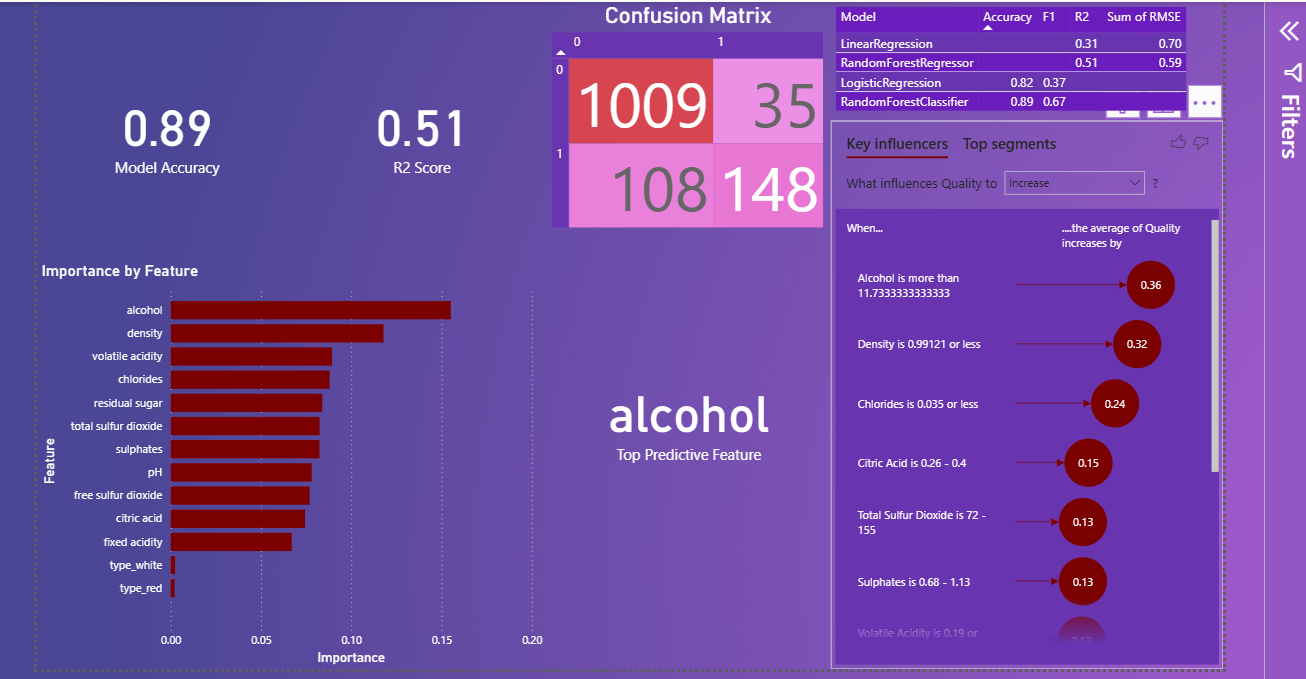

The page's visual inventory and layout, read from the dashboard file:
{"tool":"powerbi","page":{"name":"Predictive / ML","canvas":[1280,720],"ordinal":2},"visuals":[{"type":"card","fields":{"Values":["Sum(ModelKPI.Model Accuracy)"]},"box":[0,0,280.2,280.2],"z":0},{"type":"card","fields":{"Values":["Sum(ModelKPI.R2 Score)"]},"box":[280.2,0,270.6,280.2],"z":1000},{"type":"card","fields":{"Values":["Min(ModelKPI.Top Predictor Variable)"]},"box":[563.2,373.6,280.2,149.7],"z":2000},{"type":"barChart","fields":{"Category":["FeatureImportance.Column1"],"Y":["Sum(FeatureImportance.Column2)"]},"box":[0,280.2,550.8,439.6],"z":3000},{"type":"keyDriversVisual","fields":{"Target":["Wine.quality_label"],"ExplainBy":["Wine.alcohol","Wine.volatile acidity","Wine.sulphates","Wine.density","Wine.residual sugar","Wine.citric acid","Wine.chlorides","Sum(Wine.pH)","Wine.free sulfur dioxide","Wine.total sulfur dioxide","Wine.fixed acidity","Wine.type"]},"box":[855.8,127.8,424.5,592.1],"z":4000},{"type":"pivotTable","title":"Confusion Matrix","fields":{"Rows":["classification_predictions.actual"],"Columns":["classification_predictions.predicted"],"Values":["CountNonNull(classification_predictions.predicted)"]},"box":[550.8,0,305,280.2],"z":5000},{"type":"tableEx","fields":{"Values":["ModelComparison.Model","ModelComparison.Accuracy","Sum(ModelComparison.F1)","ModelComparison.R2","Sum(ModelComparison.RMSE)"]},"box":[855.8,0,424.5,127.8],"z":6000}]}

Visuals, with their boxes on the page's 1280x720 design canvas (x1, y1, x2, y2). These are canvas units, not pixel positions in the 1306x679 screenshot, which may show the page scaled, cropped or inside an application window:
card - Sum(ModelKPI.Model Accuracy): BBox(0, 0, 280, 280)
card - Sum(ModelKPI.R2 Score): BBox(280, 0, 551, 280)
card - Min(ModelKPI.Top Predictor Variable): BBox(563, 374, 843, 523)
barChart - FeatureImportance.Column1 x Sum(FeatureImportance.Column2): BBox(0, 280, 551, 720)
keyDriversVisual - Wine.quality_label x Wine.alcohol: BBox(856, 128, 1280, 720)
"Confusion Matrix" pivotTable: BBox(551, 0, 856, 280)
tableEx - ModelComparison.Model x ModelComparison.Accuracy: BBox(856, 0, 1280, 128)
